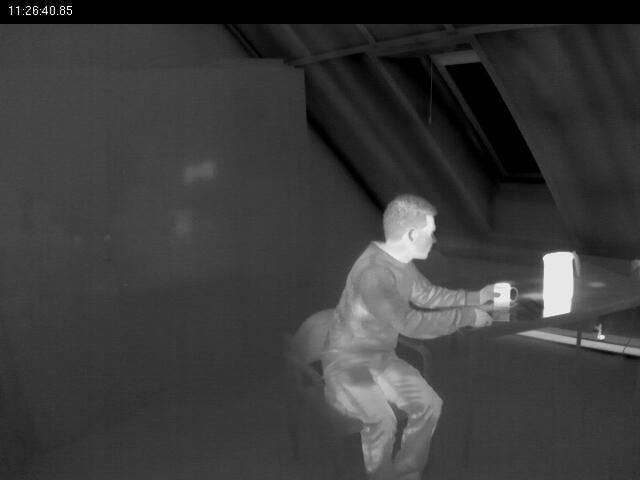person: (282, 192, 504, 480)
